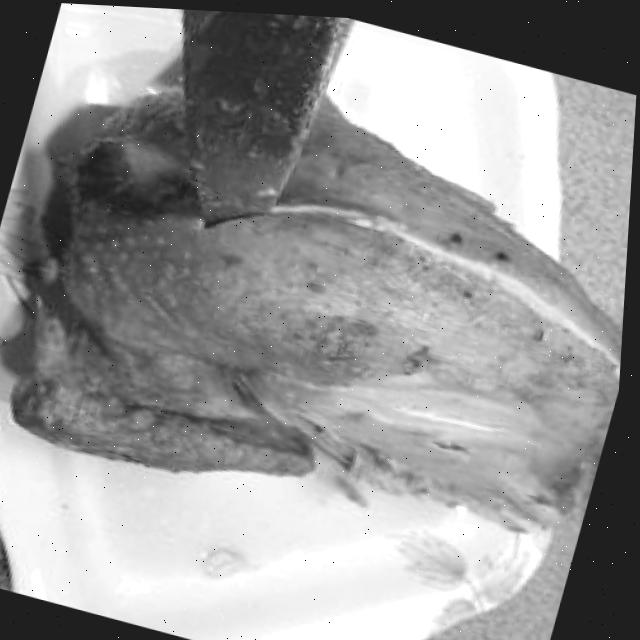鸡肉料理 含炸鸡: (0, 22, 639, 582)
